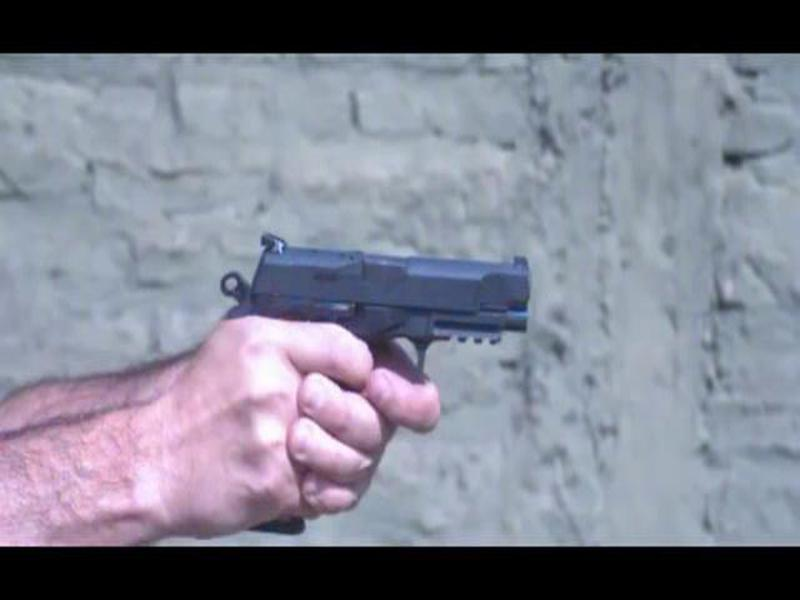Pistola: (203, 215, 549, 394)
